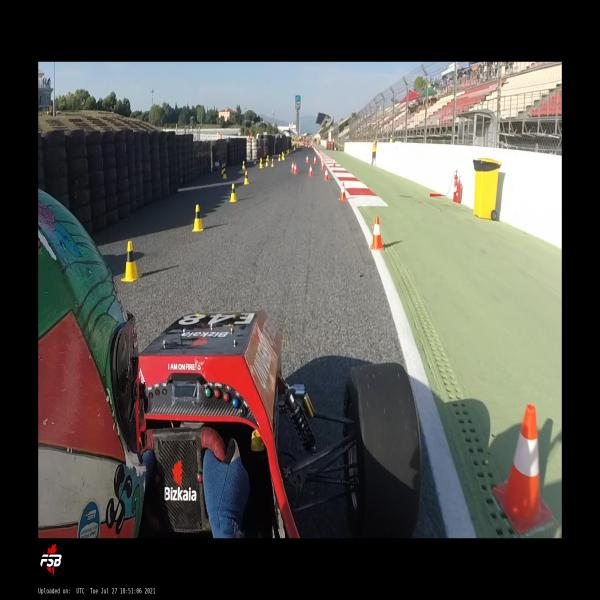orange_cone: (492, 404, 552, 532), (370, 216, 384, 250), (338, 182, 347, 200), (308, 164, 313, 177), (324, 168, 328, 181), (294, 163, 298, 174), (320, 160, 324, 170), (332, 158, 336, 167), (291, 161, 294, 171), (306, 155, 308, 163), (314, 156, 316, 163)
yellow_cone: (122, 241, 142, 282), (192, 204, 204, 231), (229, 183, 237, 202), (243, 170, 249, 185), (222, 168, 226, 179), (271, 158, 274, 167), (265, 158, 268, 167), (259, 160, 262, 169), (242, 161, 245, 170), (221, 164, 223, 173), (260, 157, 262, 165), (278, 153, 280, 161), (283, 153, 285, 160)
